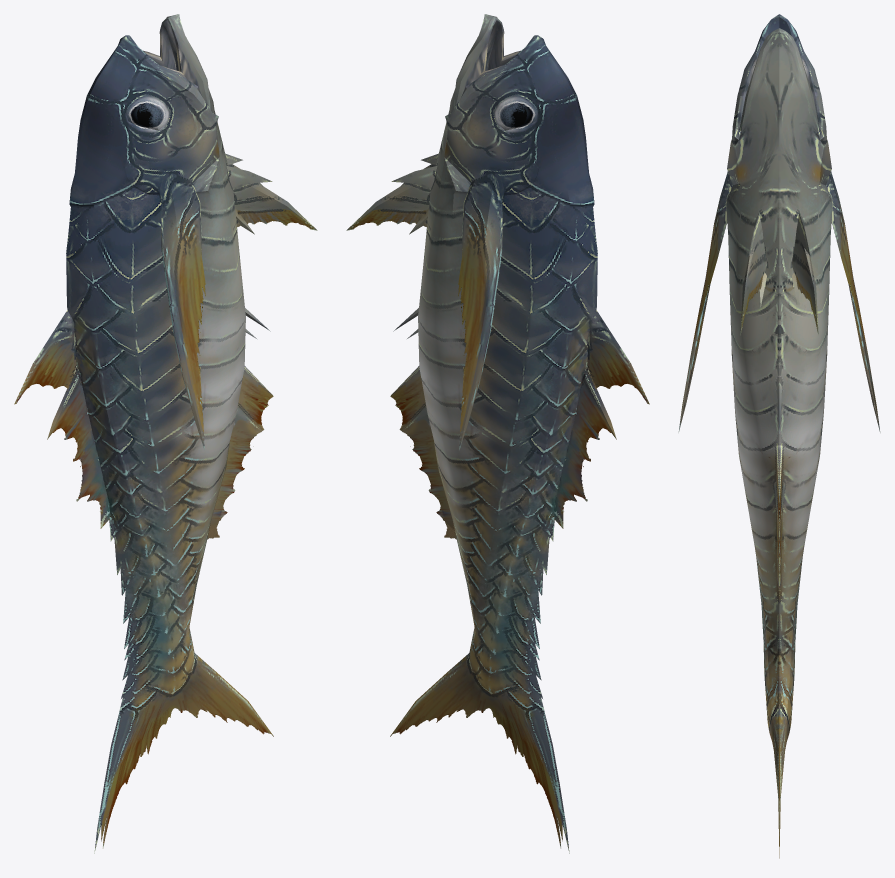
Rendered from sou028.obj.
3 views of the same model, side by side, from view 1: azimuth 30°, elevation 25°; view 2: azimuth 150°, elevation 25°; view 3: azimuth 270°, elevation 25° (orthographic). The views are drawn at different scales.
Visible parts, largest first — view 1: sou028_000_LOD_1; view 2: sou028_000_LOD_1; view 3: sou028_000_LOD_1.
Boxes of the visible parts, bbox=[...] form: sou028_000_LOD_1: bbox=[14, 14, 317, 853]; sou028_000_LOD_1: bbox=[346, 14, 649, 853]; sou028_000_LOD_1: bbox=[678, 14, 880, 858].
Size of the model in its own units: 38.98 by 109 by 22.93.
